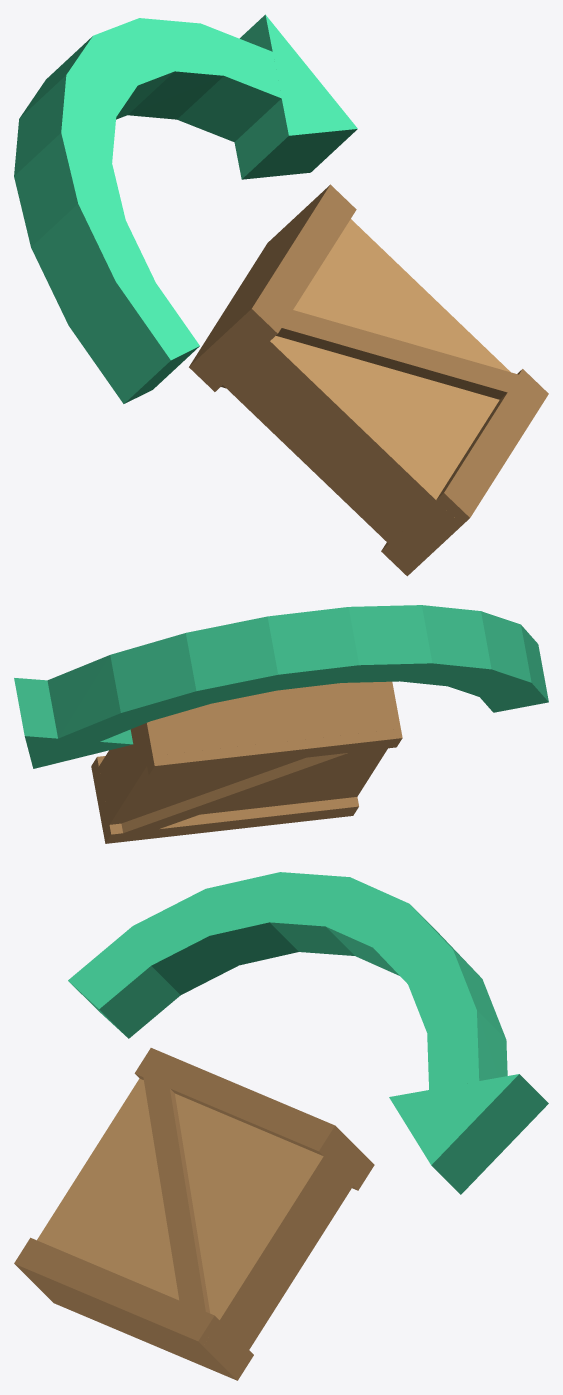
Rendered from material_transfer.obj.
3 views of the same model, one above another, from view 1: azimuth 30°, elevation 25°; view 2: azimuth 150°, elevation 25°; view 3: azimuth 270°, elevation 25° (orthographic). The views are drawn at different scales.
Size of the model in its own units: 0.951 by 0.7533 by 1.03.
